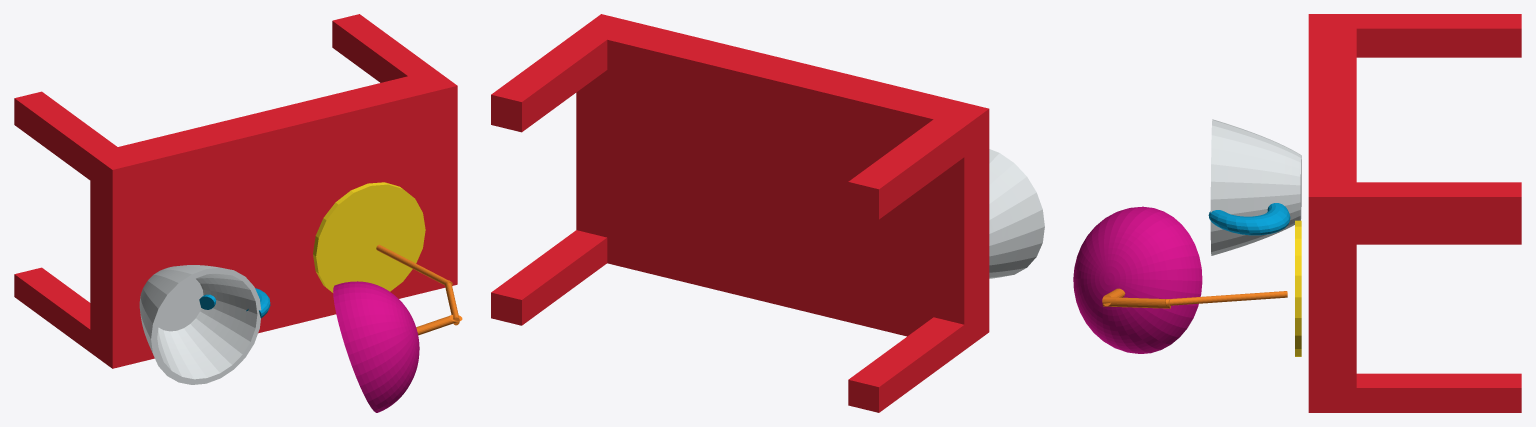
File: tinker.obj
The picture shows the model from 3 angles, left to right: view 1: azimuth 30°, elevation 25°; view 2: azimuth 150°, elevation 25°; view 3: azimuth 270°, elevation 25°; orthographic projection. The views are drawn at different scales.
Parts seen in each view (by area): view 1: group_0_15277357, group_0_14541540, group_0_16768282, group_0_14093196, group_0_16089887, group_0_40919; view 2: group_0_15277357, group_0_14541540; view 3: group_0_15277357, group_0_14093196, group_0_14541540, group_0_16089887, group_0_40919, group_0_16768282.
Part boxes in pixels (bbox=[...]): group_0_15277357: bbox=[14, 14, 457, 368]; group_0_14541540: bbox=[139, 265, 261, 384]; group_0_16768282: bbox=[313, 182, 425, 292]; group_0_14093196: bbox=[333, 281, 419, 412]; group_0_16089887: bbox=[376, 244, 462, 335]; group_0_40919: bbox=[199, 288, 270, 318]; group_0_15277357: bbox=[491, 14, 989, 412]; group_0_14541540: bbox=[989, 149, 1044, 278]; group_0_15277357: bbox=[1308, 14, 1521, 412]; group_0_14093196: bbox=[1073, 206, 1202, 353]; group_0_14541540: bbox=[1210, 119, 1301, 255]; group_0_16089887: bbox=[1102, 288, 1287, 308]; group_0_40919: bbox=[1208, 203, 1290, 235]; group_0_16768282: bbox=[1295, 220, 1301, 356].
Bounding box in the file's own units: 64 × 38.69 × 65.25.
